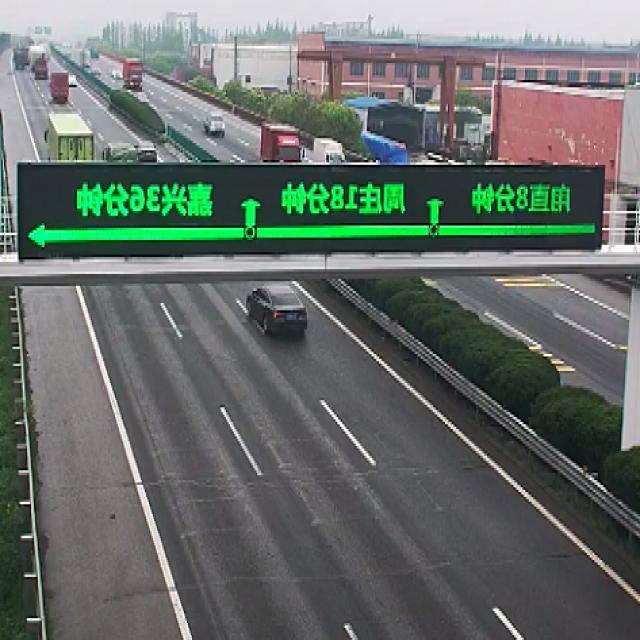point: (39, 0, 125, 175)
